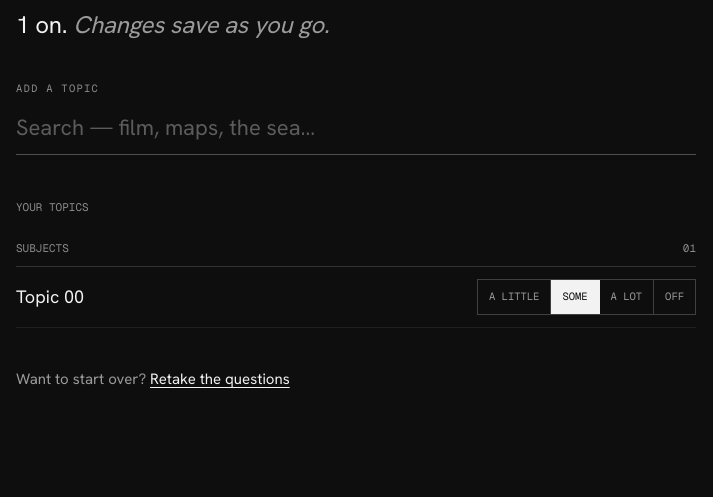
Test: TopicsScreen › search › offers at most eight
In the search field labelled "Add a topic": {"x": 356, "y": 128} x1=16 y1=101 x2=696 y2=155, type "topic"
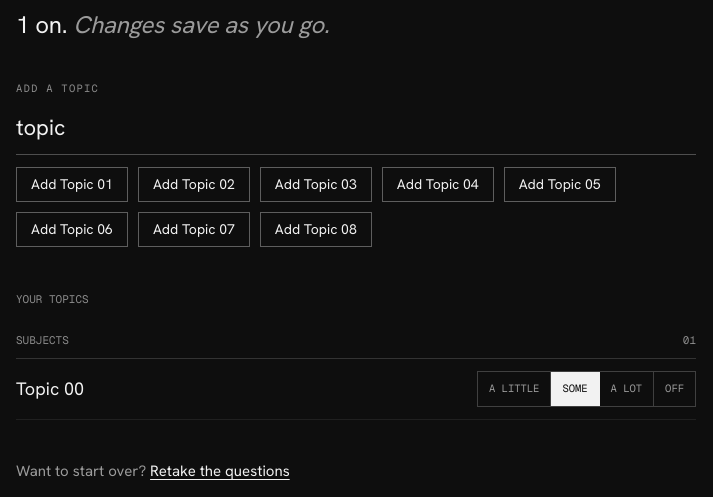
Expected: the number of buttons is 8
